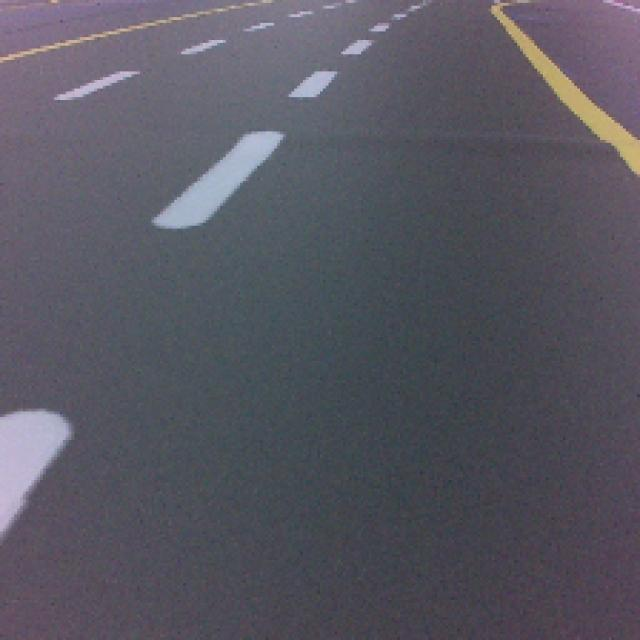Road: (0, 429, 638, 635)
